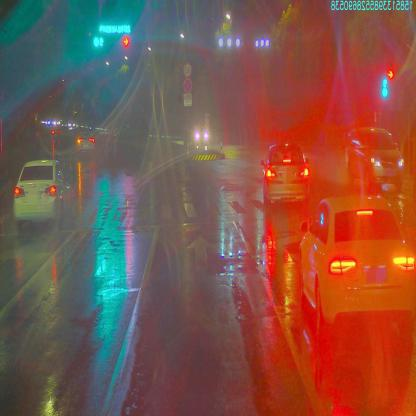traffic-light: (100, 23, 132, 34), (93, 35, 105, 48), (124, 37, 128, 48)
